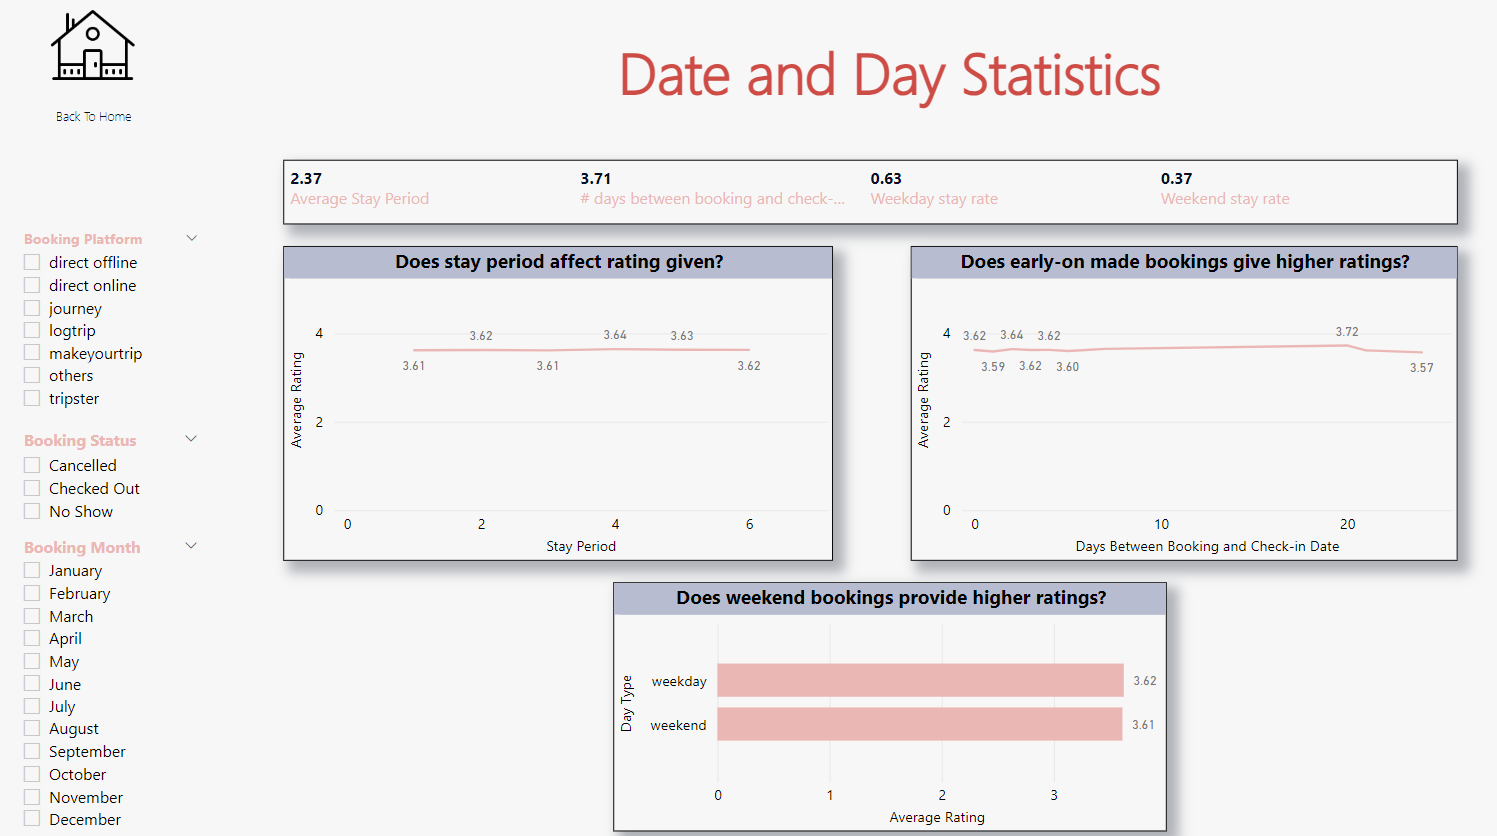

The page's visual inventory and layout, read from the dashboard file:
{"tool":"powerbi","page":{"name":"Date and Day Stats Main","canvas":[1280,720],"ordinal":6},"visuals":[{"type":"multiRowCard","fields":{"Values":["Avg(fact_bookings.stay_period)","Avg(fact_bookings.days_between_bookings_and_check_in)","fact_bookings.weekday_stay_rate","fact_bookings.weekend_stay_rate"]},"box":[240.9,137.5,988,54.3],"z":0},{"type":"lineChart","title":"Does stay period affect rating given?","fields":{"Category":["fact_bookings.stay_period"],"Y":["Avg(fact_bookings.ratings_given)"]},"box":[240.9,210.2,462.5,264.5],"z":1000},{"type":"lineChart","title":"Does early-on made bookings give higher ratings?","fields":{"Y":["Avg(fact_bookings.ratings_given)"],"Category":["fact_bookings.days_between_bookings_and_check_in"]},"box":[769.1,210.2,459.9,264.5],"z":2000},{"type":"barChart","title":"Does weekend bookings provide higher ratings?","fields":{"Category":["dim_date.day_type"],"Y":["Avg(fact_bookings.ratings_given)"]},"box":[518.5,493.1,466,209.3],"z":3000},{"type":"textbox","box":[323.2,25.4,856.6,93.7],"z":4000},{"type":"image","box":[30.7,0,101.6,85],"z":5000},{"type":"textbox","box":[37.7,85,86.7,35.9],"z":6000},{"type":"slicer","fields":{"Values":["fact_bookings.booking_platform"]},"box":[9.6,191.8,171.7,169.9],"z":7000},{"type":"slicer","fields":{"Values":["fact_bookings.booking_status"]},"box":[9.6,360,171.7,95.5],"z":8000},{"type":"slicer","fields":{"Values":["fact_bookings.booking_date.Variation.Date Hierarchy.Month"]},"box":[9.6,449.3,171.7,270.7],"z":9000}]}

Visuals, with their boxes on the page's 1280x720 design canvas (x1, y1, x2, y2). These are canvas units, not pixel positions in the 1497x836 screenshot, which may show the page scaled, cropped or inside an application window:
multiRowCard - Avg(fact_bookings.stay_period) x Avg(fact_bookings.days_between_bookings_and_check_in): {"left": 241, "top": 138, "right": 1229, "bottom": 192}
"Does stay period affect rating given?" lineChart: {"left": 241, "top": 210, "right": 703, "bottom": 475}
"Does early-on made bookings give higher ratings?" lineChart: {"left": 769, "top": 210, "right": 1229, "bottom": 475}
"Does weekend bookings provide higher ratings?" barChart: {"left": 518, "top": 493, "right": 984, "bottom": 702}
textbox: {"left": 323, "top": 25, "right": 1180, "bottom": 119}
image: {"left": 31, "top": 0, "right": 132, "bottom": 85}
textbox: {"left": 38, "top": 85, "right": 124, "bottom": 121}
slicer - fact_bookings.booking_platform: {"left": 10, "top": 192, "right": 181, "bottom": 362}
slicer - fact_bookings.booking_status: {"left": 10, "top": 360, "right": 181, "bottom": 456}
slicer - fact_bookings.booking_date.Variation.Date Hierarchy.Month: {"left": 10, "top": 449, "right": 181, "bottom": 720}
